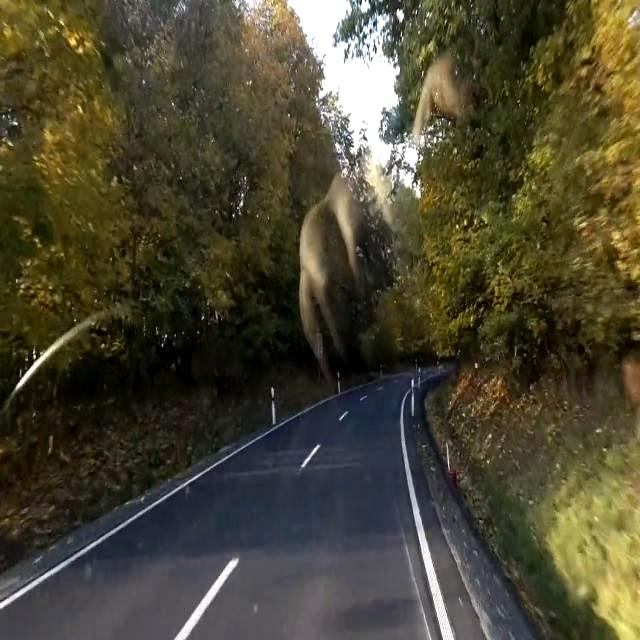lane: (1, 393, 346, 609), (401, 388, 452, 639), (173, 558, 238, 639)
road: (2, 375, 440, 639)
